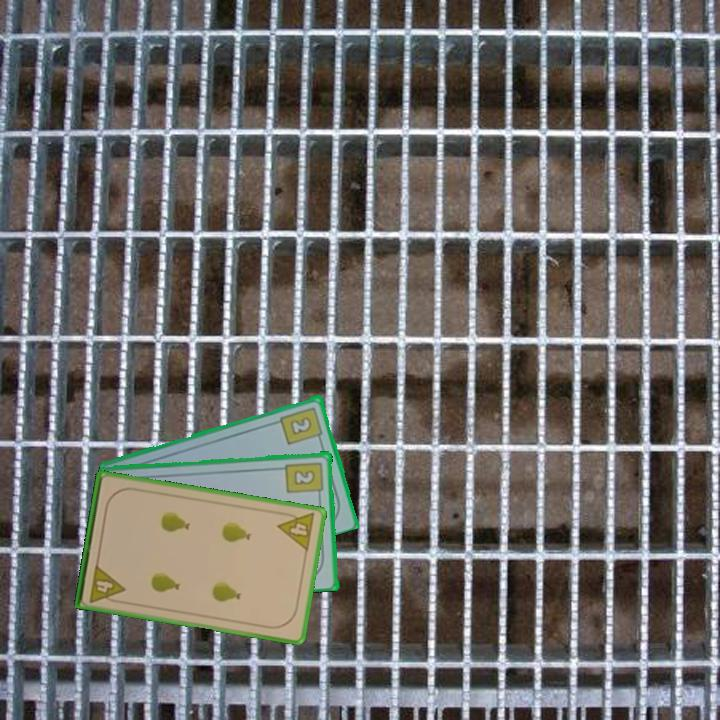2b: (277, 403, 326, 447), (283, 458, 326, 500)
4p: (274, 508, 318, 554), (86, 561, 127, 606)
